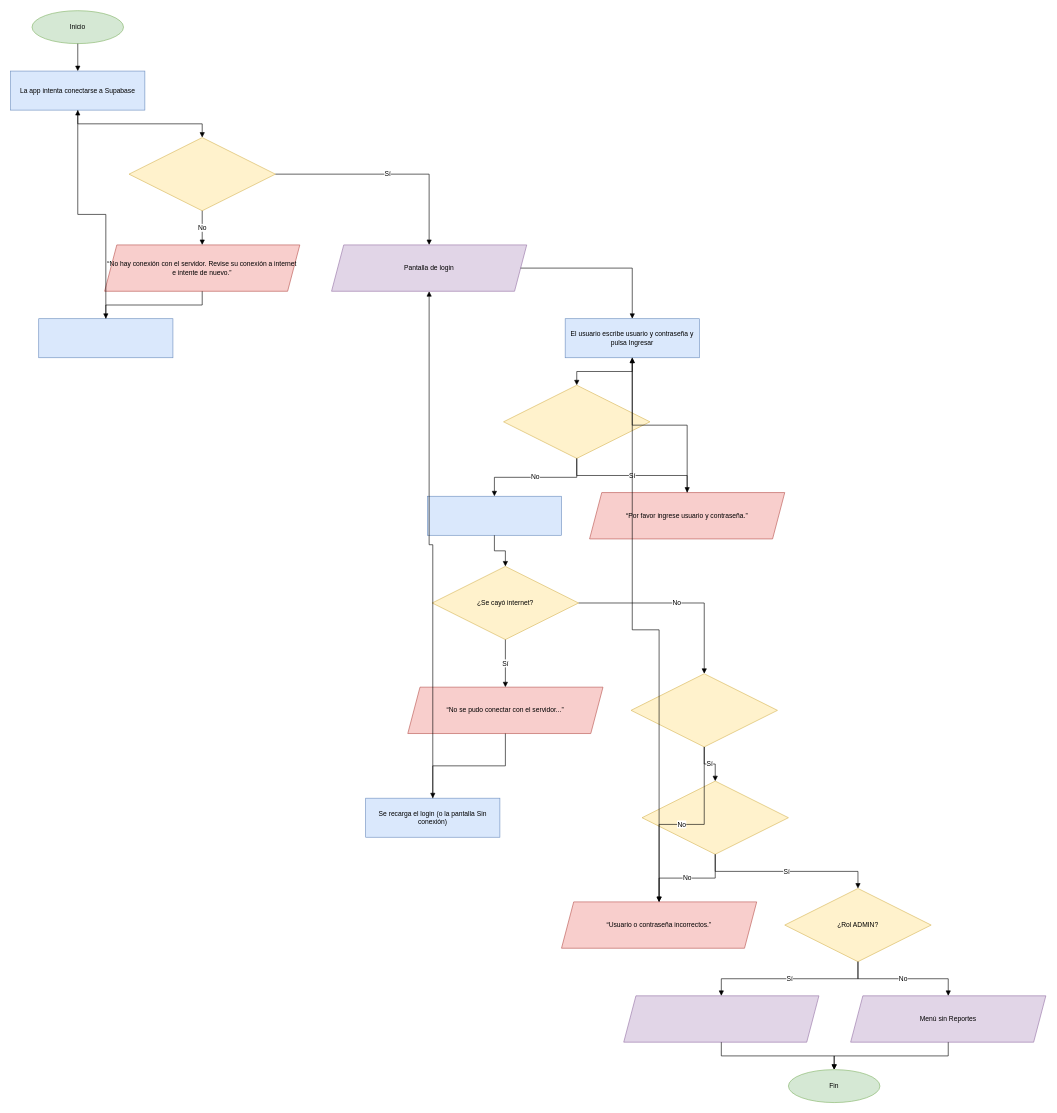
This 1057x1113 diagram has some shape labels left out. The shapes that lost their labels are listed below. From the top down, each one's centre as x and y in pixels, then its label:
At pixel 201 174: "¿Hay conexión?".
At pixel 105 338: "Botón Reintentar".
At pixel 576 421: "¿Campos vacíos?".
At pixel 494 515: "Buscar el usuario en Supabase".
At pixel 703 710: "¿El usuario existe?".
At pixel 714 817: "¿Está activo y la contraseña coincide (bcrypt)?".
At pixel 721 1018: "Menú con el botón Reportes".
